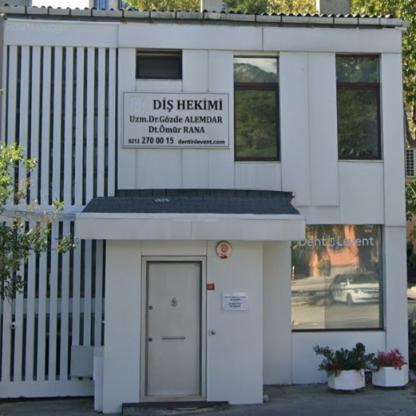door: (147, 264, 201, 397)
window: (292, 225, 382, 331), (336, 56, 380, 158), (234, 58, 278, 159), (138, 53, 180, 78)
